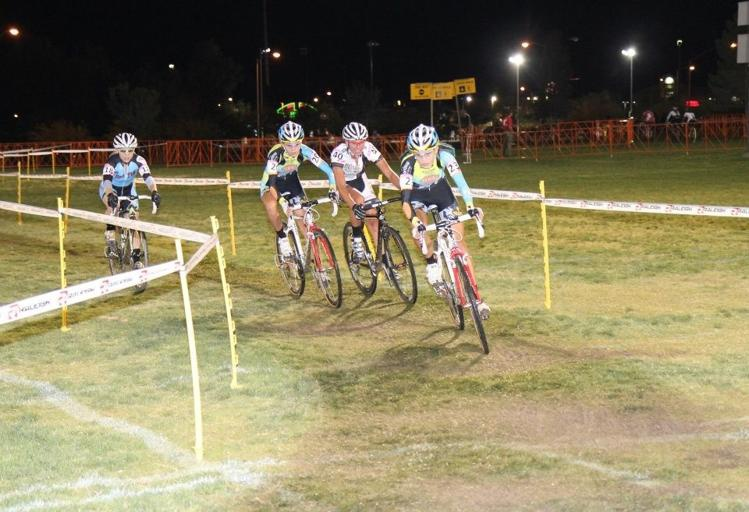non-vehicle: (412, 203, 490, 355), (342, 194, 418, 305), (273, 198, 344, 309), (101, 193, 158, 293)
